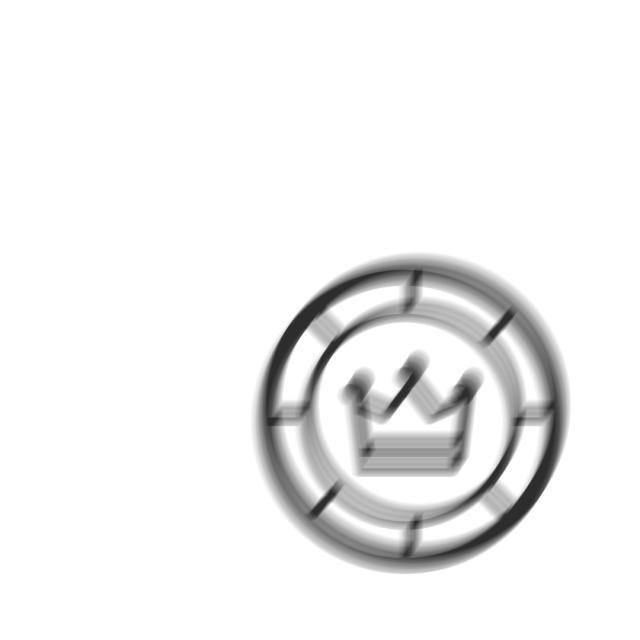coin: (249, 249, 573, 582)
